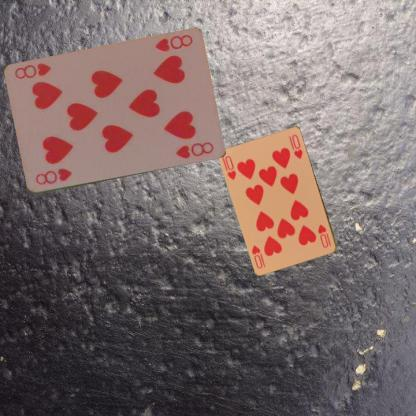10h: (223, 153, 238, 182), (316, 222, 332, 249)
8h: (152, 32, 194, 54), (32, 166, 73, 186)
